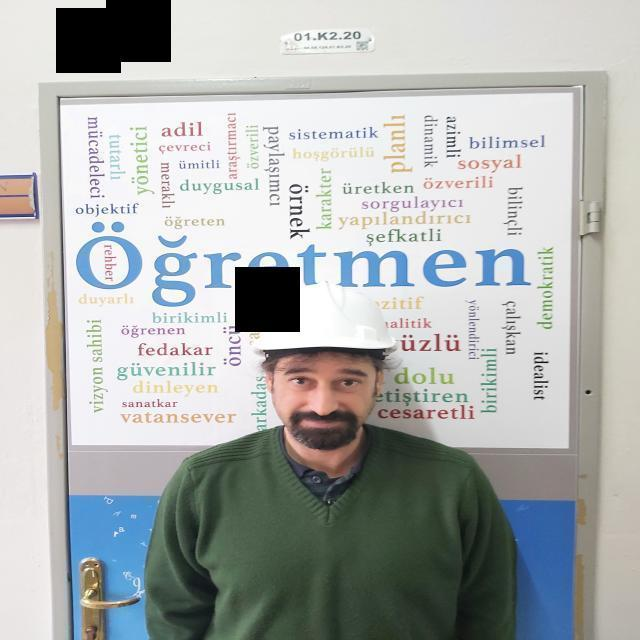helmet: (252, 280, 397, 354)
